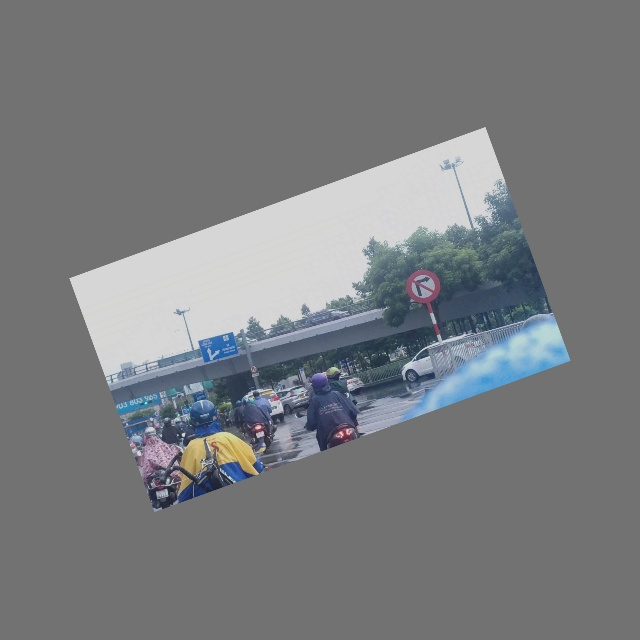P.123b: (393, 257, 454, 317)
P.124b1: (247, 363, 261, 377)
